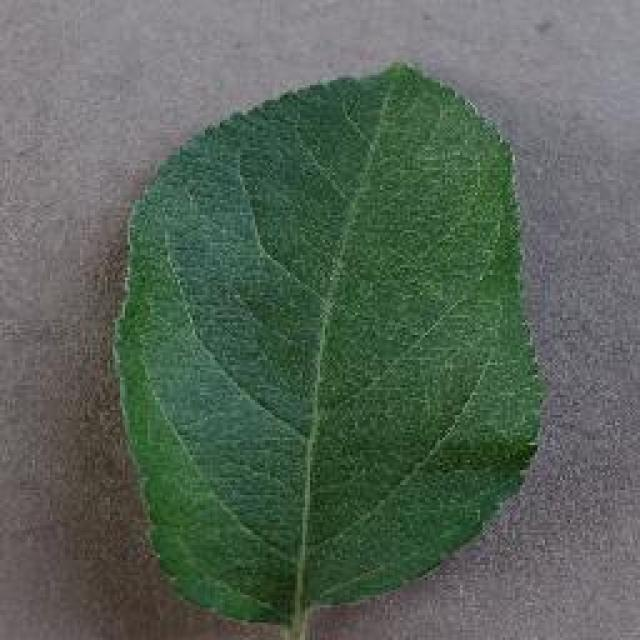apple scab disease: (108, 58, 550, 638)
